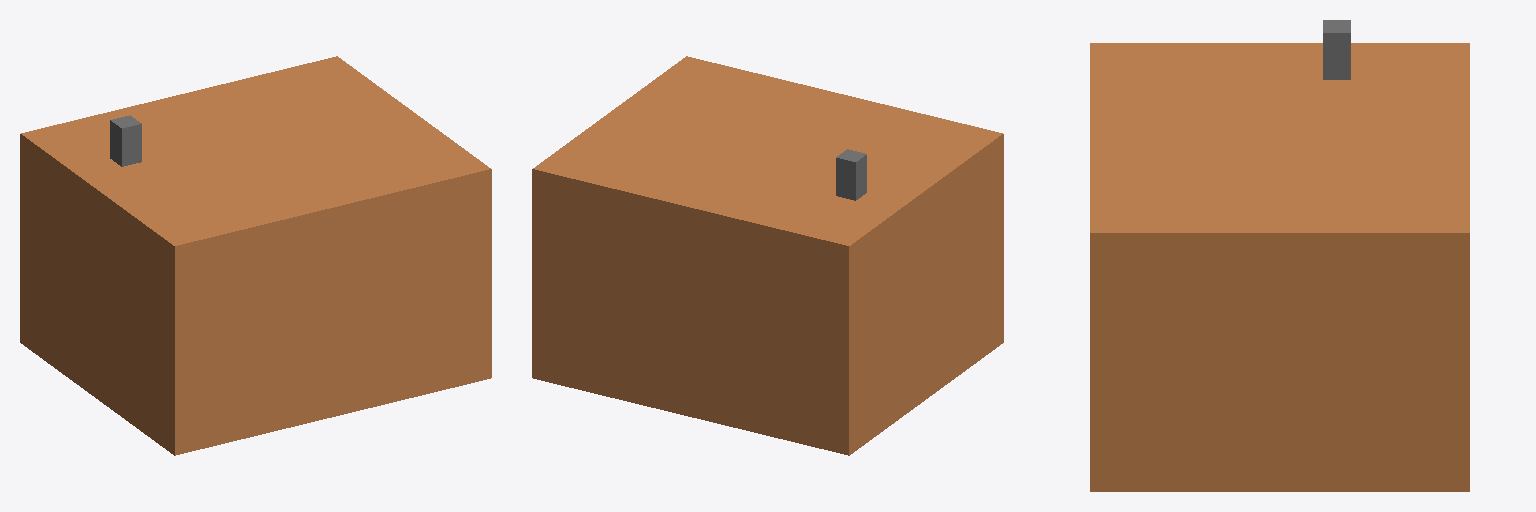
robot.urdf — box:
<?xml version="1.0"?>
<robot name="box">
  <link name="box">
    <visual>
      <material name="wood">
        <color rgba="0.82 0.56 0.35 1.0"/>
      </material>
      <origin xyz="0 0 0"/>
      <geometry>
        <box size="0.475 0.4 0.3"/>
      </geometry>
    </visual>
    <collision>
      <origin xyz="0 0 0"/>
      <geometry>
        <box size="0.475 0.4 0.3"/>
      </geometry>
    </collision>

    <!-- Nail -->
    <visual>
      <material name="grey">
        <color rgba="0.5 0.5 0.5 1.0"/>
      </material>
      <!-- <origin xyz="-0.2 0.1 0.175"/> -->
      <origin xyz="-0.16 0.06 0.175"/>
      <geometry>
        <box size="0.03 0.03 0.06"/>
      </geometry>
    </visual>
    <collision>
      <!-- <origin xyz="-0.2 0.1 0.175"/> -->
      <origin xyz="-0.16 0.06 0.175"/>
      <geometry>
        <box size="0.03 0.03 0.06"/>
      </geometry>
    </collision>

    <inertial>
      <mass value="500"/>
      <friction value="1.0"/>
      <inertia ixx="1000.0" ixy="0.0" ixz="0.0" iyy="1000.0" iyz="0.0" izz="1000.0"/>
    </inertial>
  </link>
</robot>

--- Facts derived from the render (not from the file) ---
3 views of the same robot in one strip: view 1: azimuth 30°, elevation 25°; view 2: azimuth 150°, elevation 25°; view 3: azimuth 270°, elevation 25° (orthographic).
Robot: box — 1 links, 0 joints (none); root link box; default pose: all joints at 0.
Visible links, largest first — view 1: box; view 2: box; view 3: box.
Boxes of the visible links, x1,y1,x2,y2 form: box: (20, 56, 491, 455); box: (532, 56, 1003, 455); box: (1090, 20, 1469, 491).
Size in the robot's own frame: 0.475 by 0.4 by 0.355 metres.
Geometry: primitives only (box / cylinder / sphere), no mesh files.
